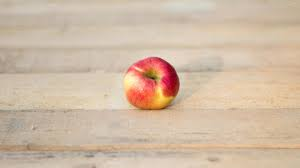apple: (120, 58, 183, 110)
